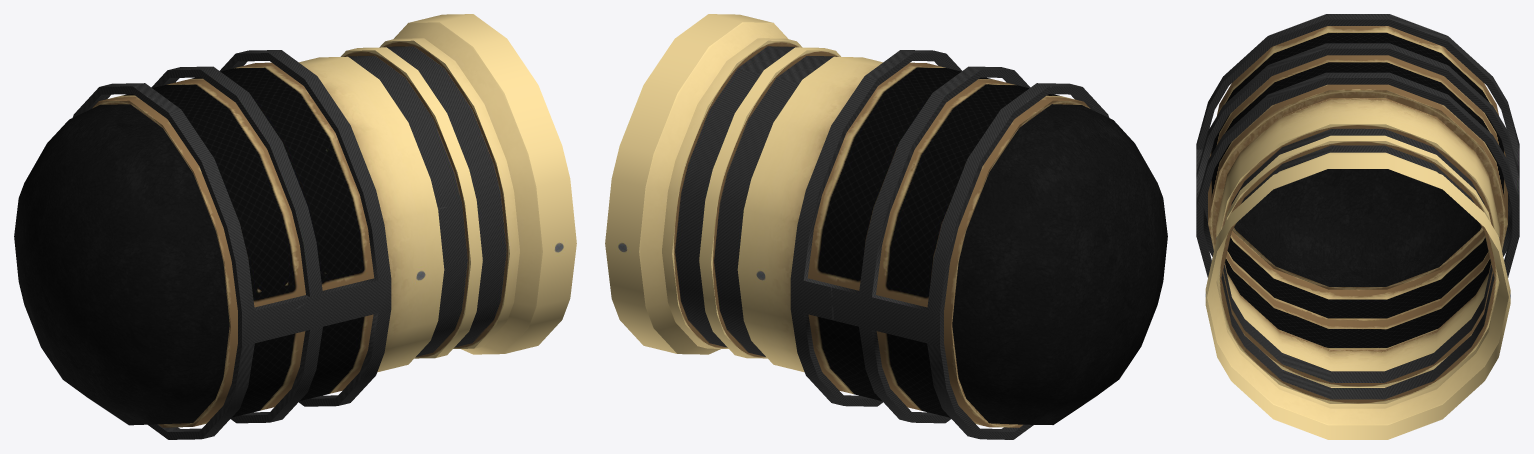
The model's file is pommel_1_c_b.glb.
3 renders of one model, left to right at view 1: azimuth 30°, elevation 25°; view 2: azimuth 150°, elevation 25°; view 3: azimuth 270°, elevation 25°, orthographic. The views are drawn at different scales.
Parts seen in each view (by area): view 1: pommel_1_c_b_lod0; view 2: pommel_1_c_b_lod0; view 3: pommel_1_c_b_lod0.
Boxes of the visible parts, x1=… form: pommel_1_c_b_lod0: x1=14, y1=14, x2=576, y2=439; pommel_1_c_b_lod0: x1=605, y1=14, x2=1167, y2=439; pommel_1_c_b_lod0: x1=1196, y1=14, x2=1519, y2=439.
Size of what is drawn, in the model's own units: 0.0457 by 0.0324 by 0.0328.
1 material, 1 textured.
